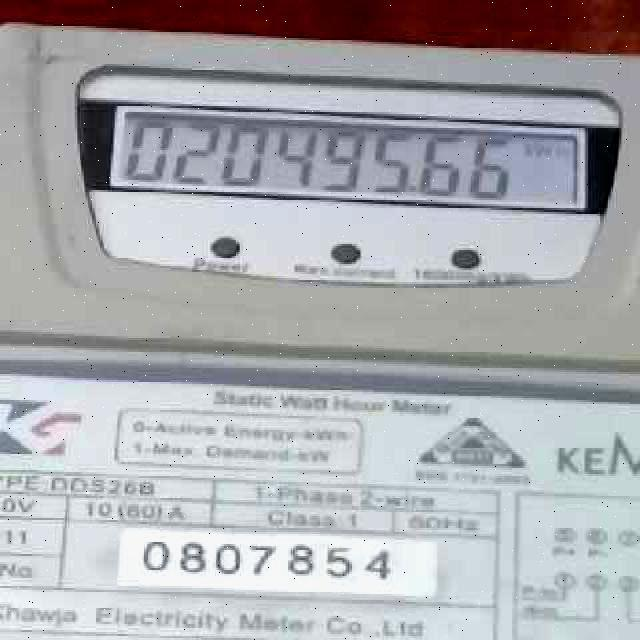LCD: (105, 103, 594, 214)
